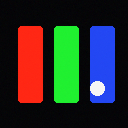2 circle: (90, 81, 104, 95)
